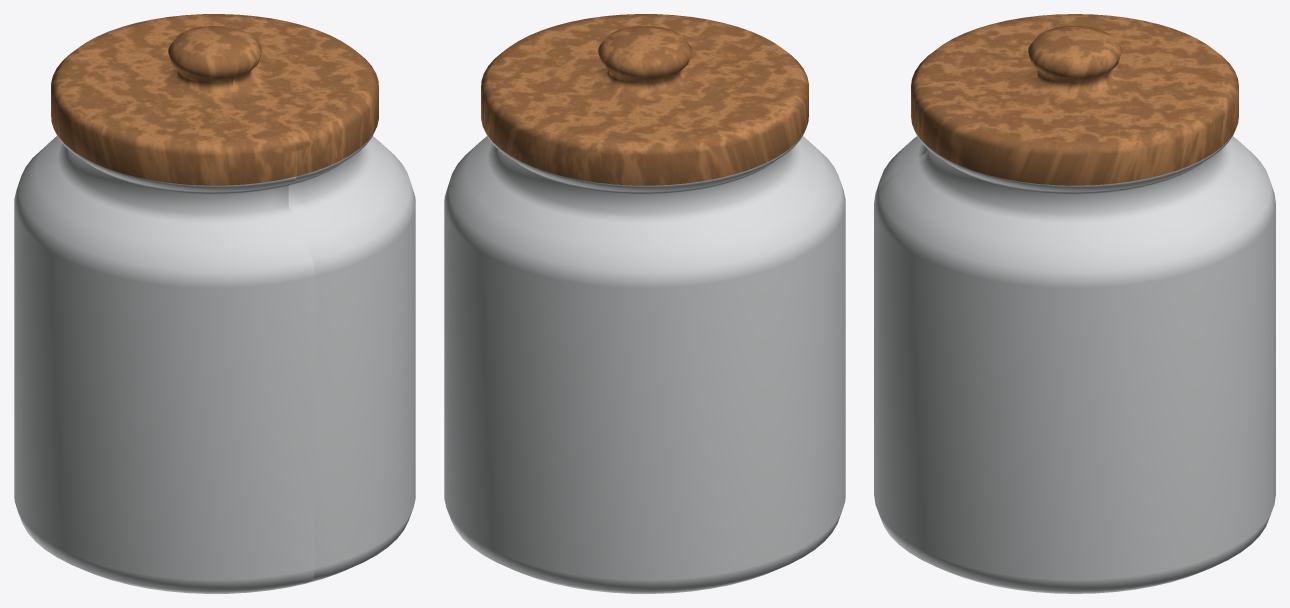
The model's file is warm-batch-jar.glb.
3 views of the same model, side by side, from view 1: azimuth 30°, elevation 25°; view 2: azimuth 150°, elevation 25°; view 3: azimuth 270°, elevation 25° (orthographic).
Parts seen in each view (by area): view 1: JarGlass, JarLid; view 2: JarGlass, JarLid; view 3: JarGlass, JarLid.
Boxes of the visible parts, x1,y1,x2,y2 form: JarGlass: (14,130,415,593); JarLid: (51,14,378,185); JarGlass: (444,130,845,593); JarLid: (481,14,808,185); JarGlass: (874,133,1275,593); JarLid: (911,14,1238,185).
Bounding box in the file's own units: 1.2 × 1.6 × 1.2.
Materials: 3 (1 with a texture image).
